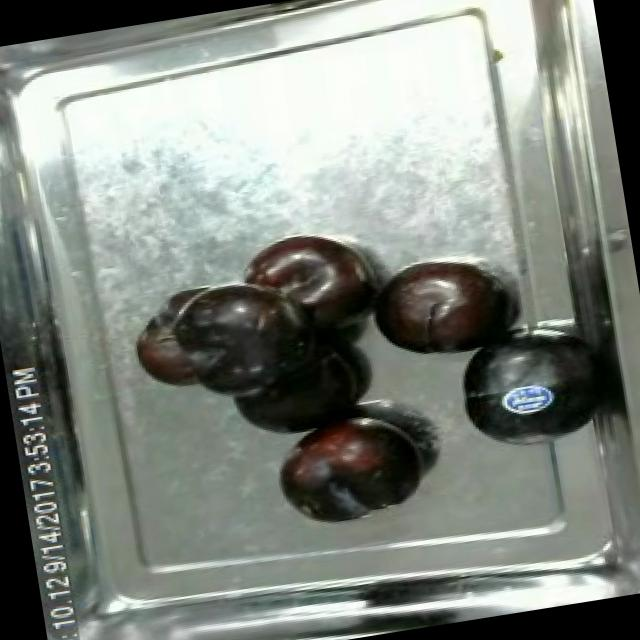Fruit: (441, 317, 613, 466), (264, 404, 435, 534), (358, 244, 518, 374), (233, 225, 383, 330)
